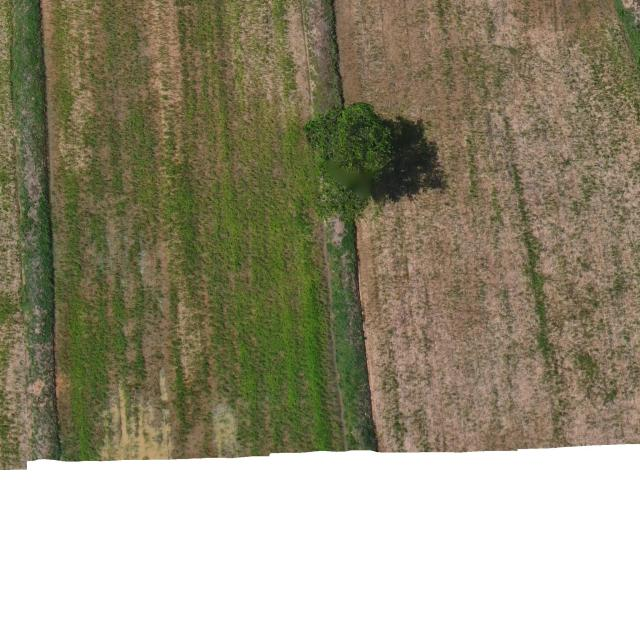tree: (301, 99, 402, 190)
